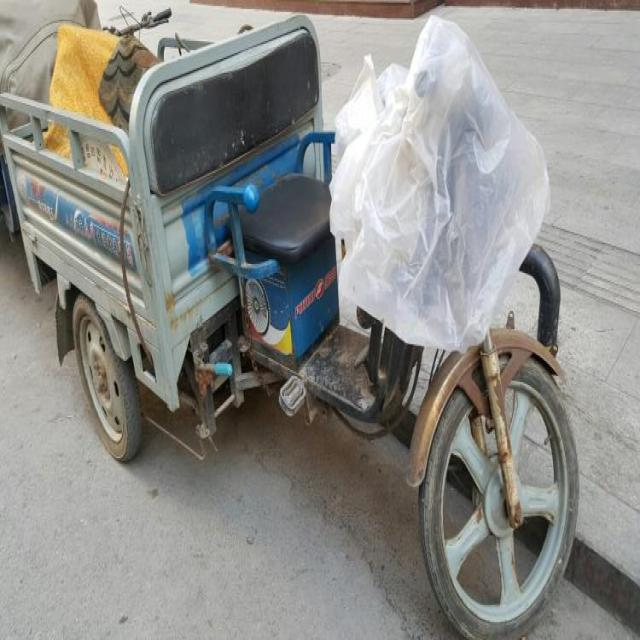tricycle: (0, 7, 580, 634)
